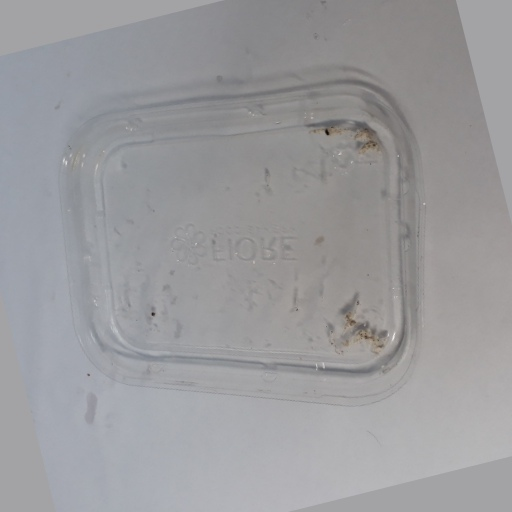Plastic_4: (61, 84, 421, 410)
